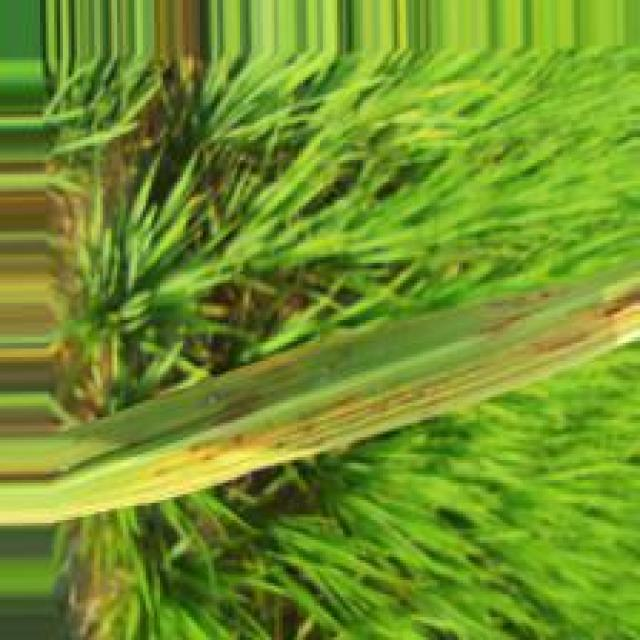Narrow_Brown_Leaf_Spot: (16, 273, 640, 529), (211, 335, 355, 386), (214, 399, 264, 426)
